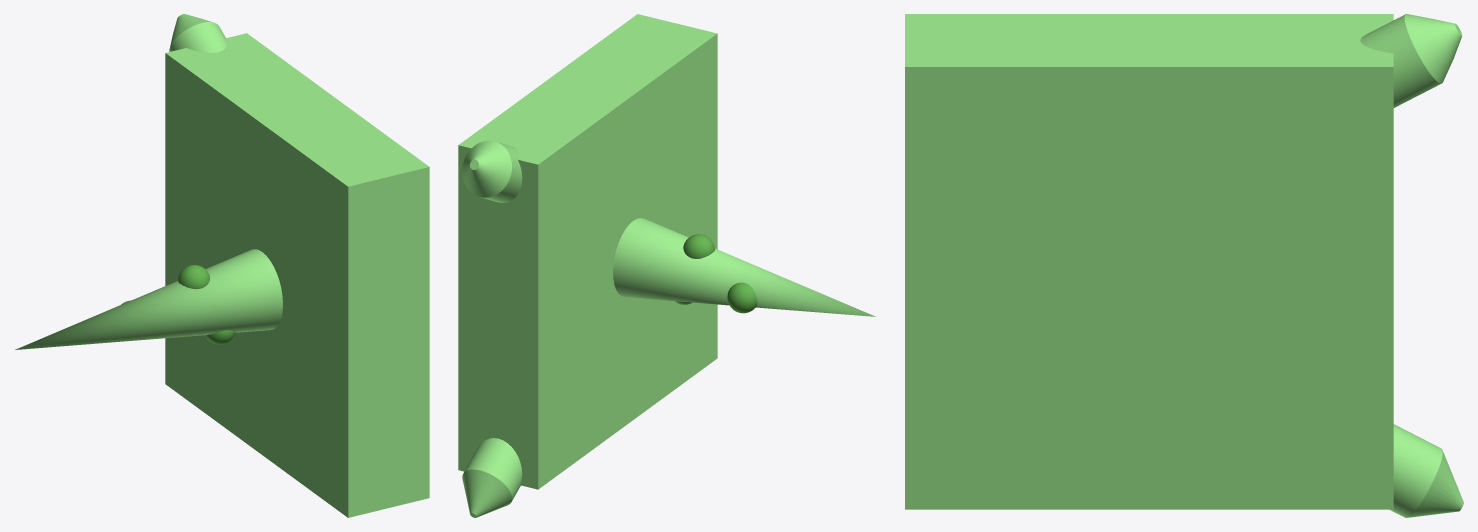
The model's file is item-greg.glb.
The picture shows the model from 3 angles, left to right: view 1: azimuth 30°, elevation 25°; view 2: azimuth 150°, elevation 25°; view 3: azimuth 270°, elevation 25°; orthographic projection. The views are drawn at different scales.
Size of the model in its own units: 23.25 by 25.05 by 25.56.
